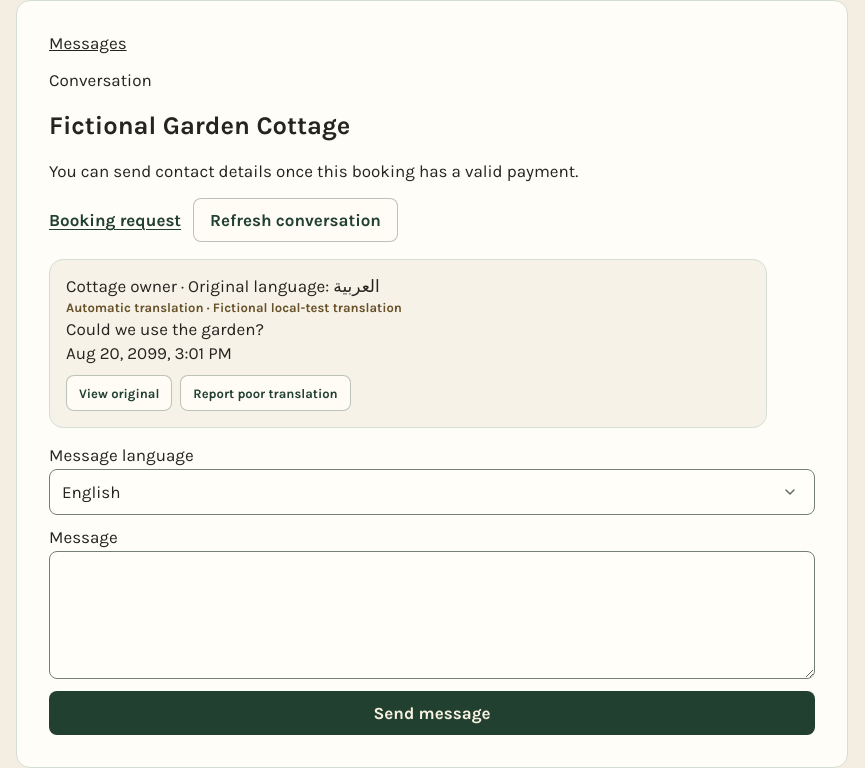
Messaging conversation › becomes explicitly read-only after a suspended send in en
Expected: the link "Booking request" is shown, [49, 210, 181, 230]
Type "A safe question" into the text box. click: (432, 615)
box: [49, 551, 815, 679]
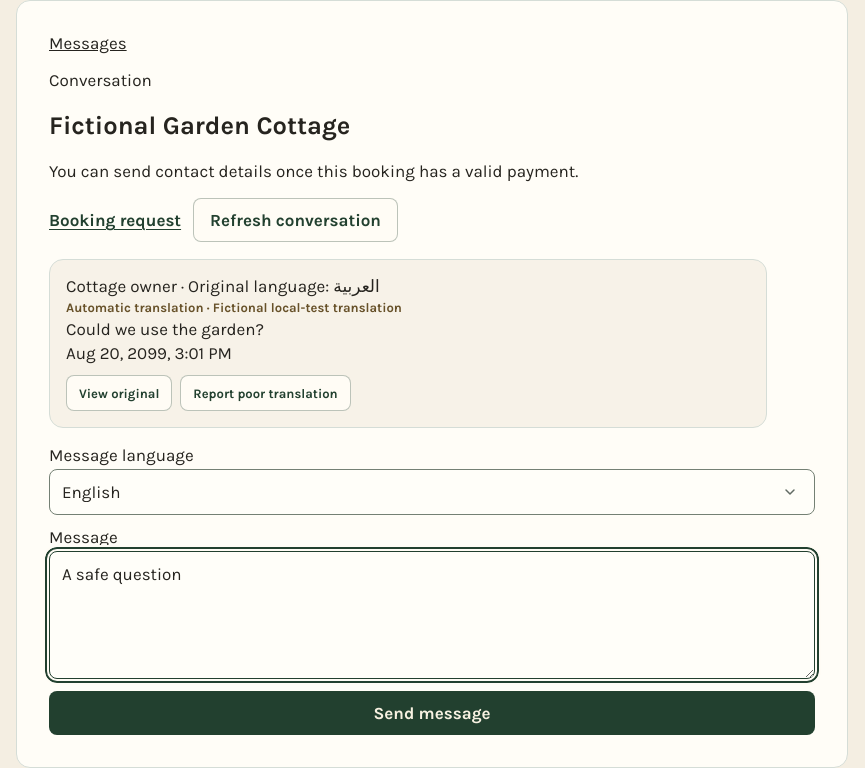
Click the button "Send message". click: (432, 713)
box: [49, 691, 815, 735]
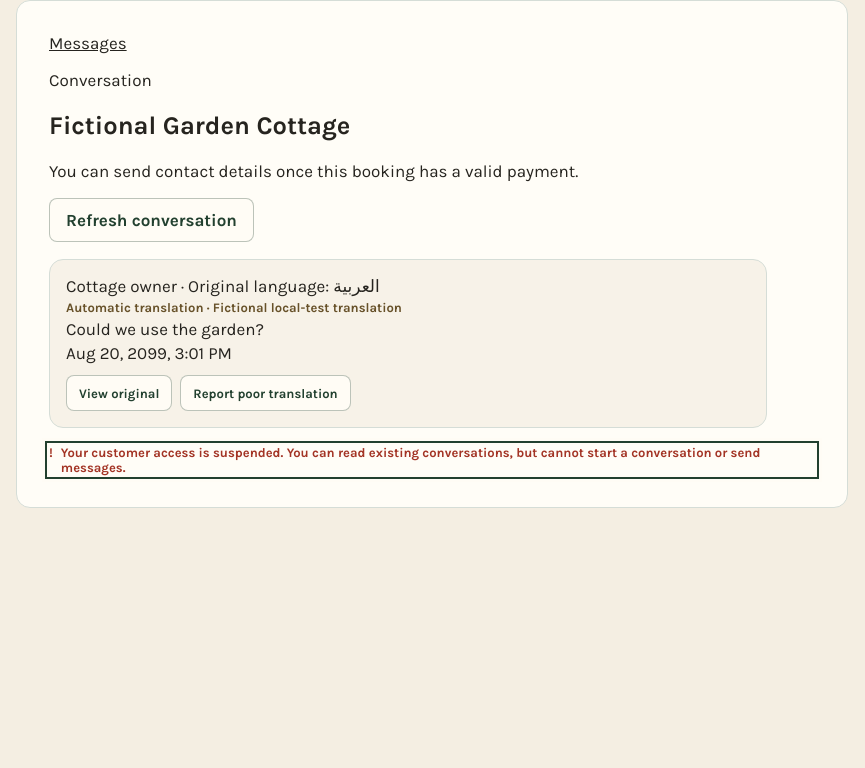
Expected: the button "Refresh conversation" is enabled, [49, 198, 254, 242]
Now the message shows "Your customer access is suspended. You can read existing conversations, but cannot start a conversation or send messages.", box [61, 445, 760, 475]
Now the link "Booking request" is gone
